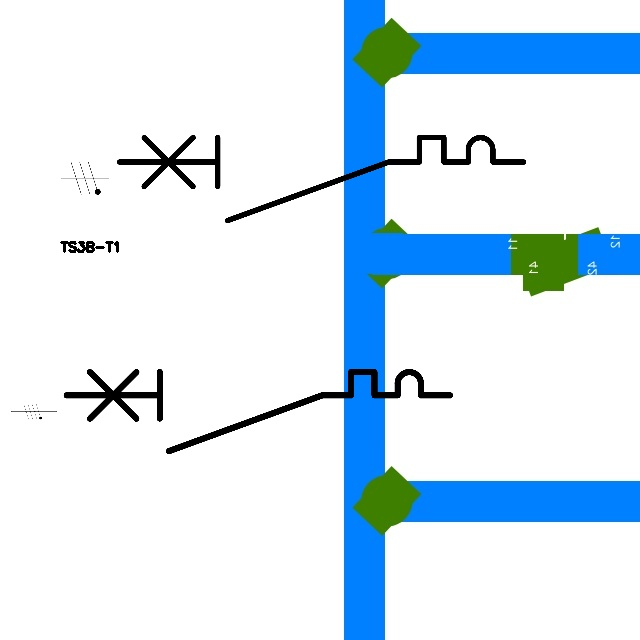interruptor_termomagnetico: (109, 127, 534, 231), (56, 362, 460, 461)
